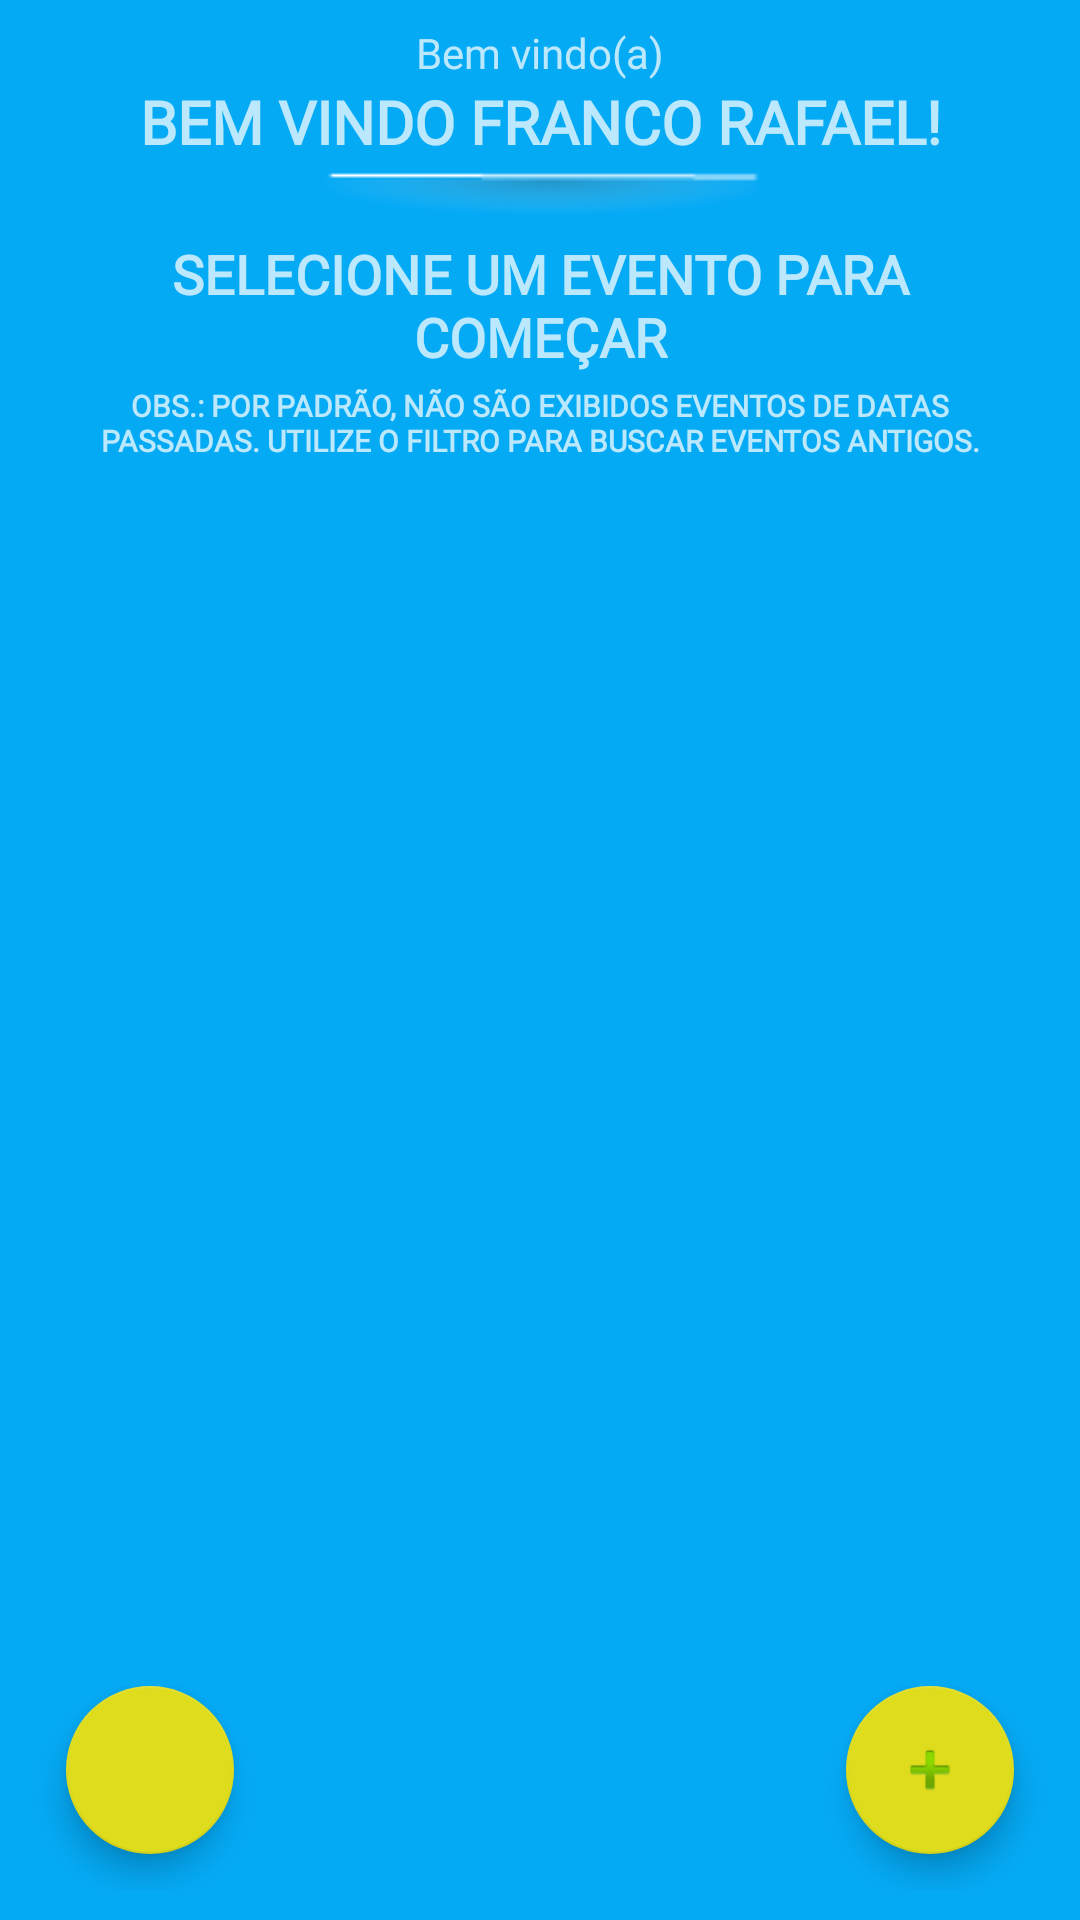

Screen size 1080w x 1920h. Icon name, then its box in pixels as (x1,y1,x2,y2):
add: (846,1686,1014,1854)
